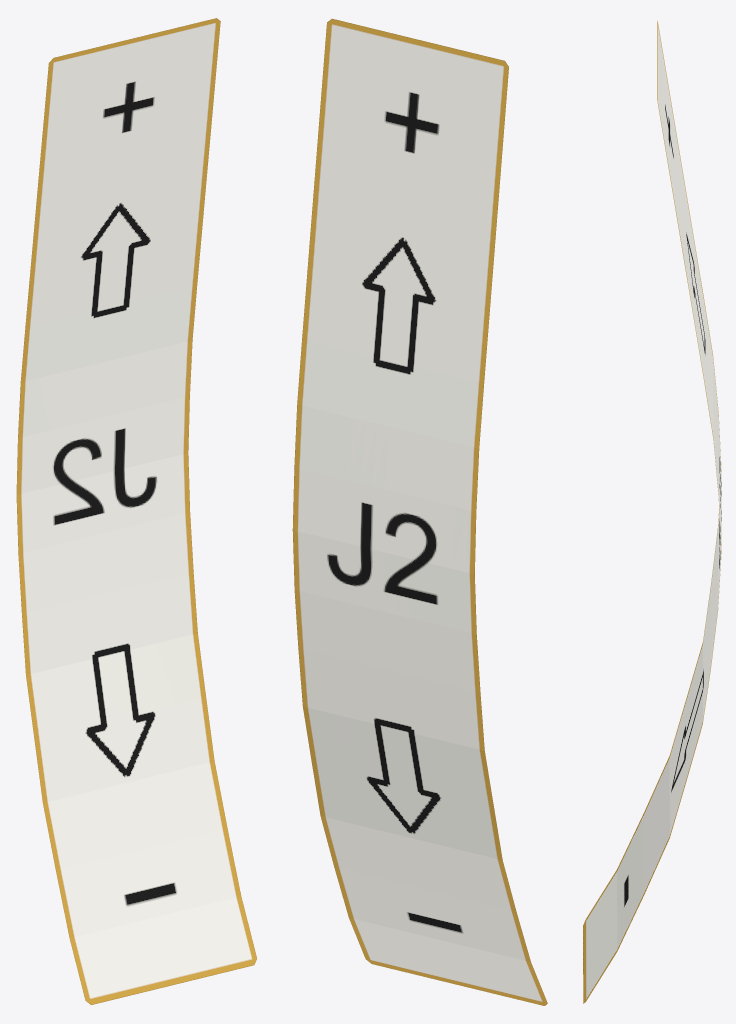
The model's file is J2_sticker_other_active.glb.
3 renders of one model, left to right at view 1: azimuth 30°, elevation 25°; view 2: azimuth 150°, elevation 25°; view 3: azimuth 270°, elevation 25°, orthographic. The views are drawn at different scales.
Size of the model in its own units: 0.012 by 0.06 by 0.00836.
Materials: 1 (1 with a texture image).
